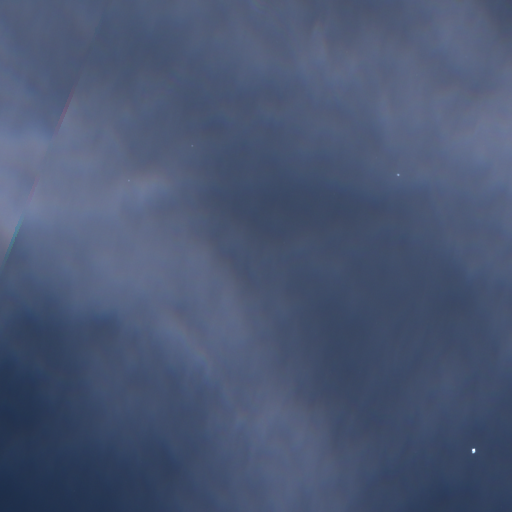Iceberg: (472, 448, 475, 453), (397, 174, 399, 175), (191, 145, 192, 146), (128, 180, 129, 181)
